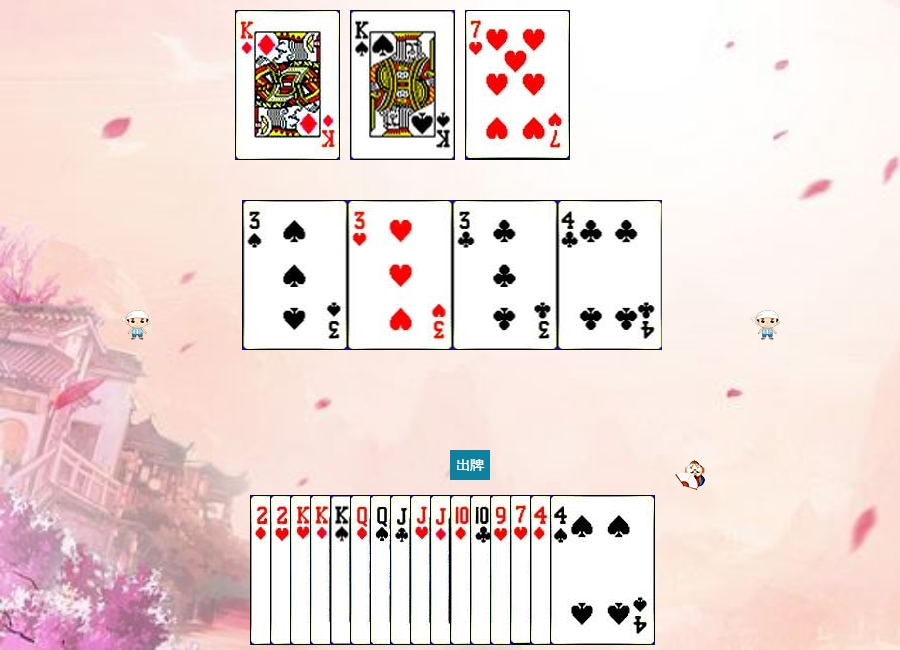10~1: (450, 495, 555, 645)
10~2: (470, 495, 575, 645)
11~1: (430, 495, 535, 645)
11~2: (390, 495, 495, 645)
11~3: (410, 495, 515, 645)
12~1: (350, 495, 455, 645)
12~4: (370, 495, 475, 645)
13~1: (235, 10, 340, 160), (310, 495, 415, 645)
13~3: (290, 495, 395, 645)
13~4: (350, 10, 455, 160), (330, 495, 435, 645)
15~1: (250, 495, 355, 645)
15~3: (270, 495, 375, 645)
3~2: (453, 200, 558, 350)
3~3: (348, 200, 453, 350)
3~4: (243, 200, 348, 350)
4~1: (530, 495, 635, 645)
4~2: (558, 200, 663, 350)
4~4: (550, 495, 655, 645)
7~3: (465, 10, 570, 160), (510, 495, 615, 645)
9~3: (490, 495, 595, 645)
